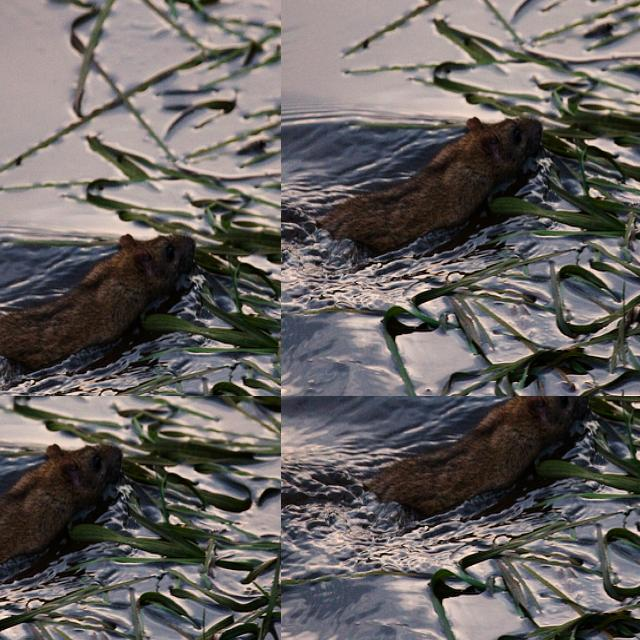rat: (357, 396, 588, 528), (281, 136, 416, 302), (0, 257, 72, 396), (0, 141, 69, 264)
